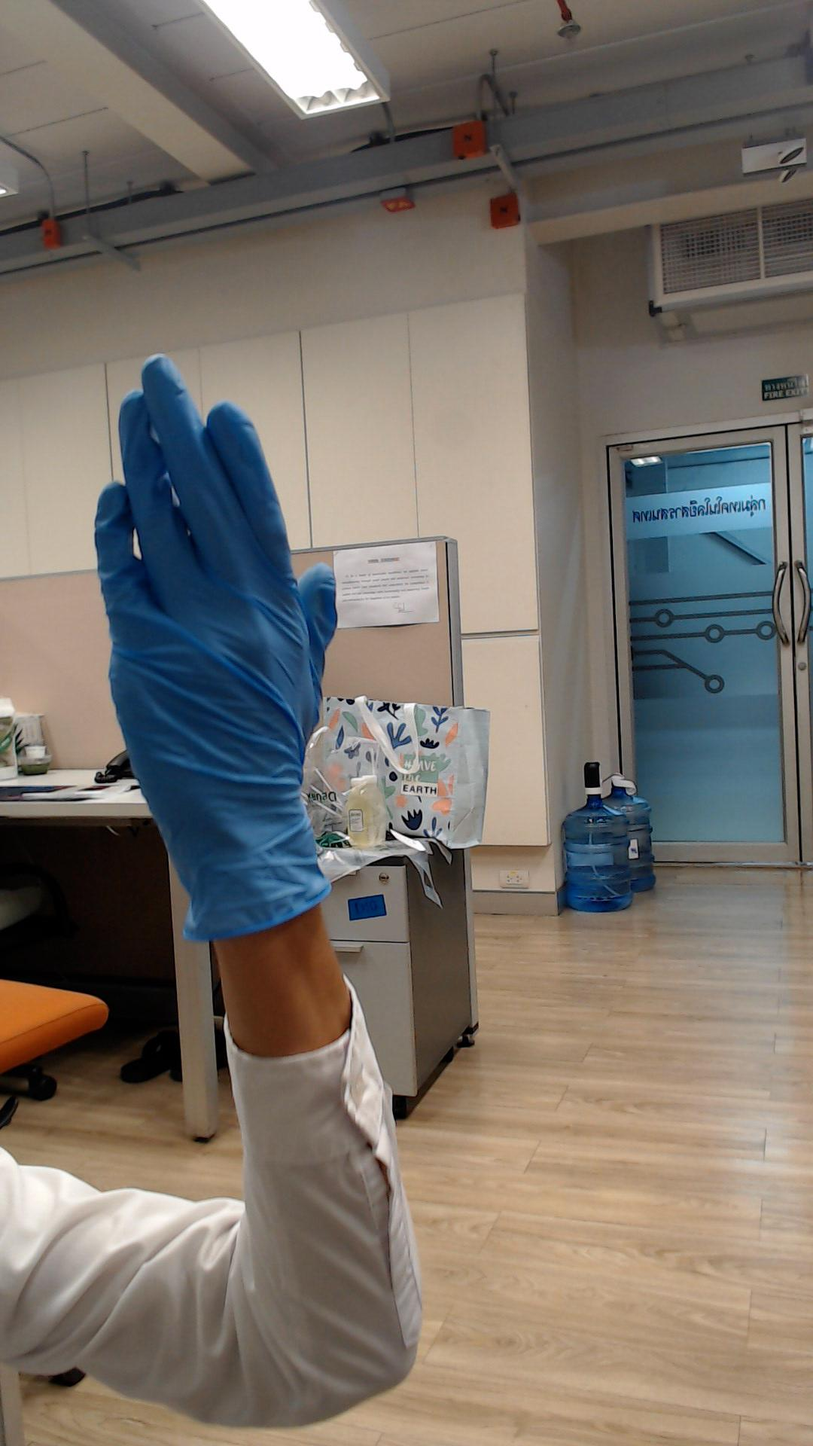gloves: (69, 319, 362, 790)
